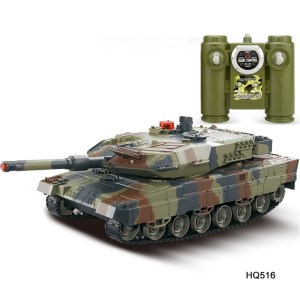Battle Tank: (21, 118, 300, 242)
